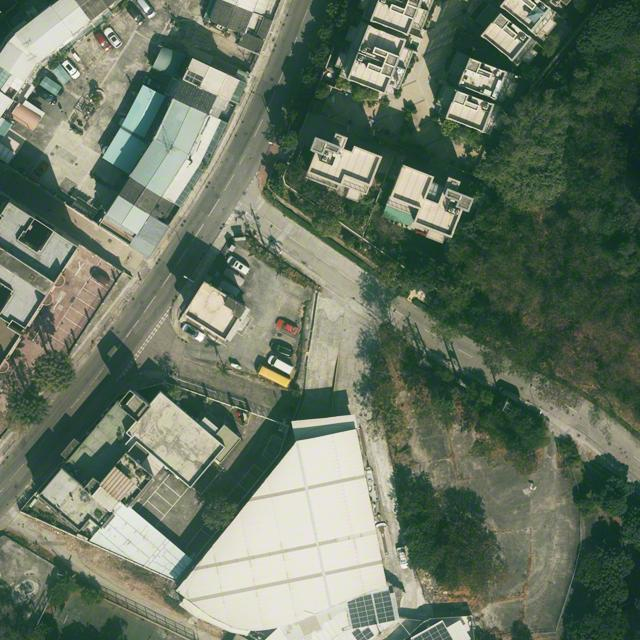panel: (347, 591, 397, 630), (428, 622, 447, 639), (360, 627, 375, 639)
